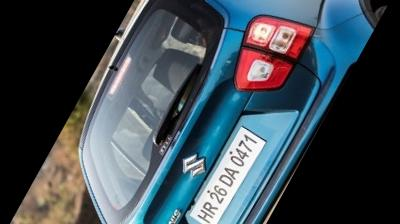plate: (178, 111, 280, 224)
